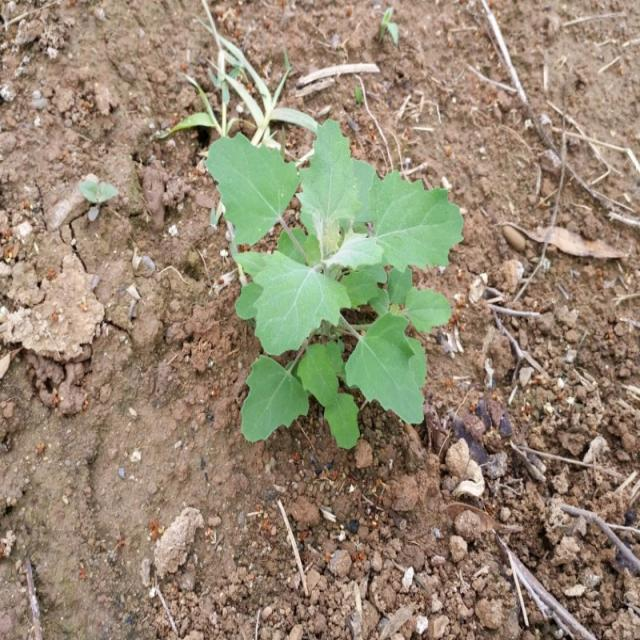ca: (206, 122, 464, 448)
